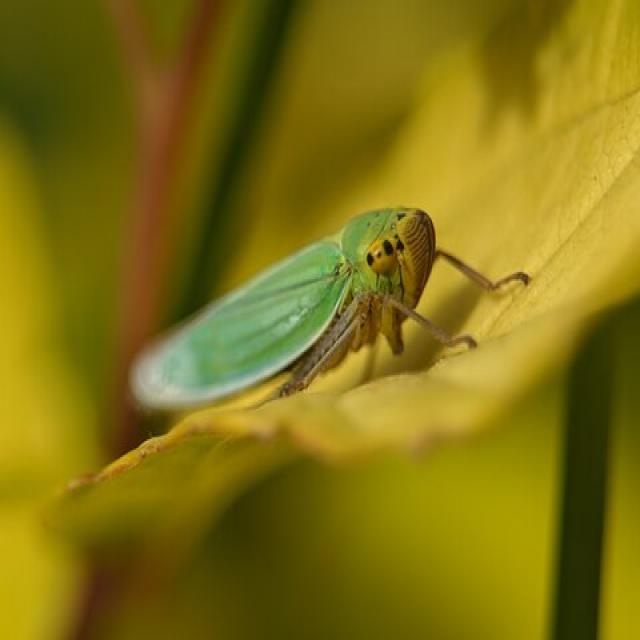Yechan: (108, 204, 469, 436)
